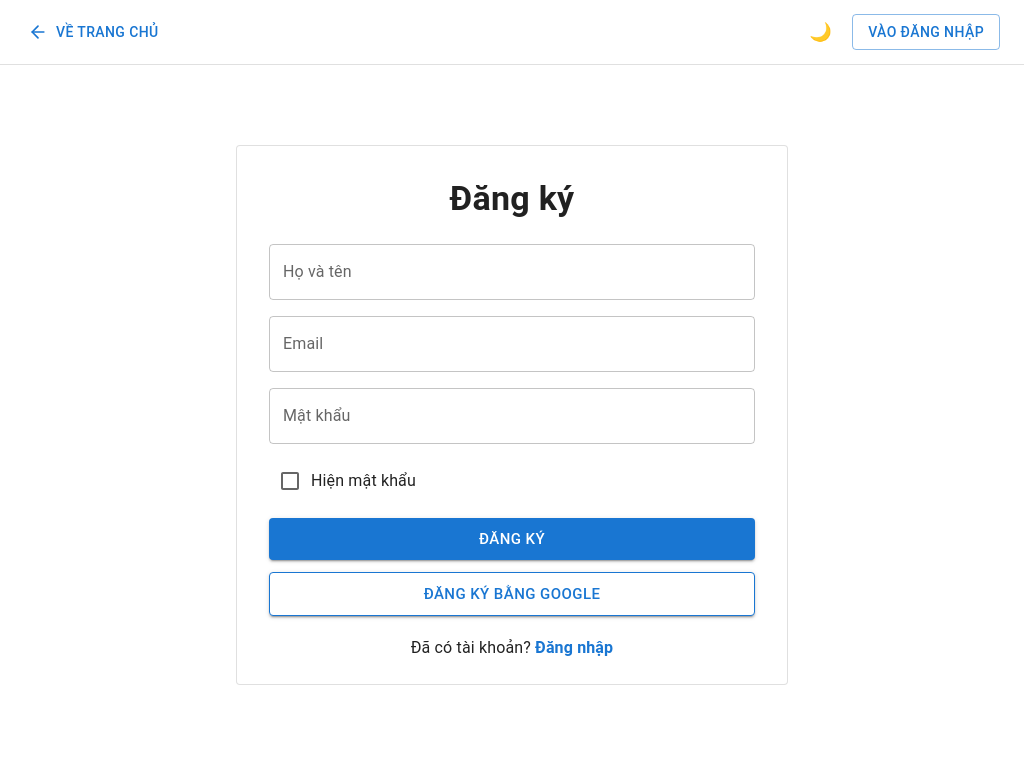
Test case: RegisterPage › shows error when full name is empty
Click the button "Đăng ký".
click(512, 539)  # box [269,518,755,560]
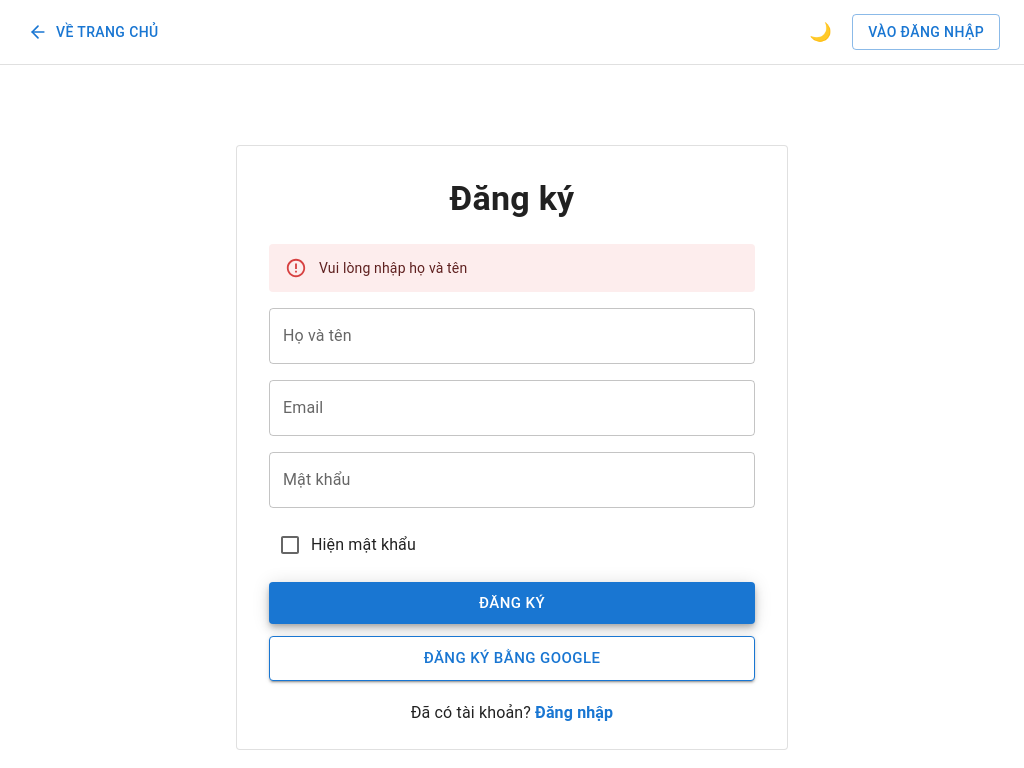
Now the message reads "Vui lòng nhập họ và tên", box [319,260,467,276]
